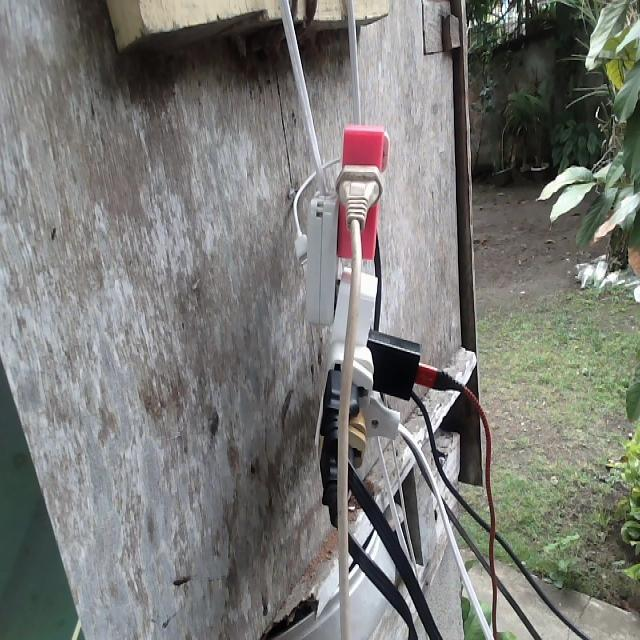-: (303, 109, 476, 535)
